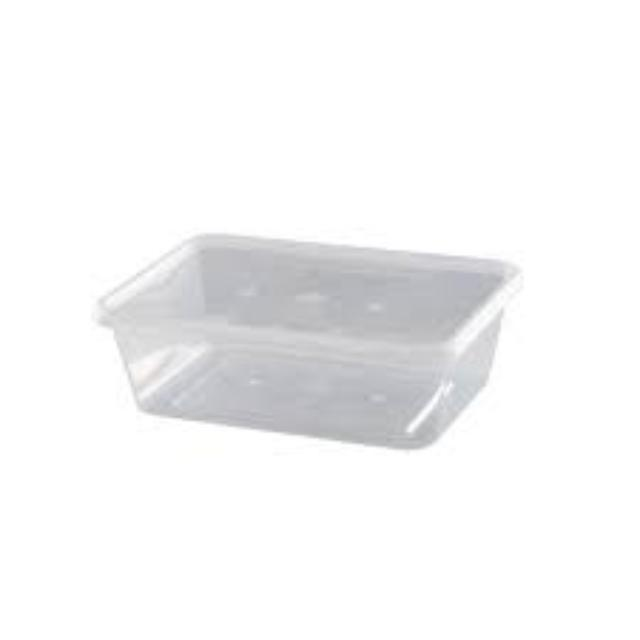Recipiente plastico: (100, 235, 519, 447)
